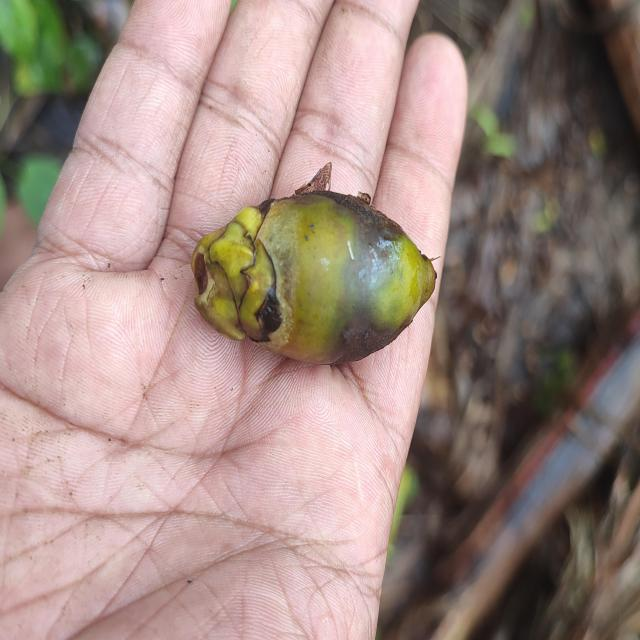damaged: (191, 190, 438, 368)
